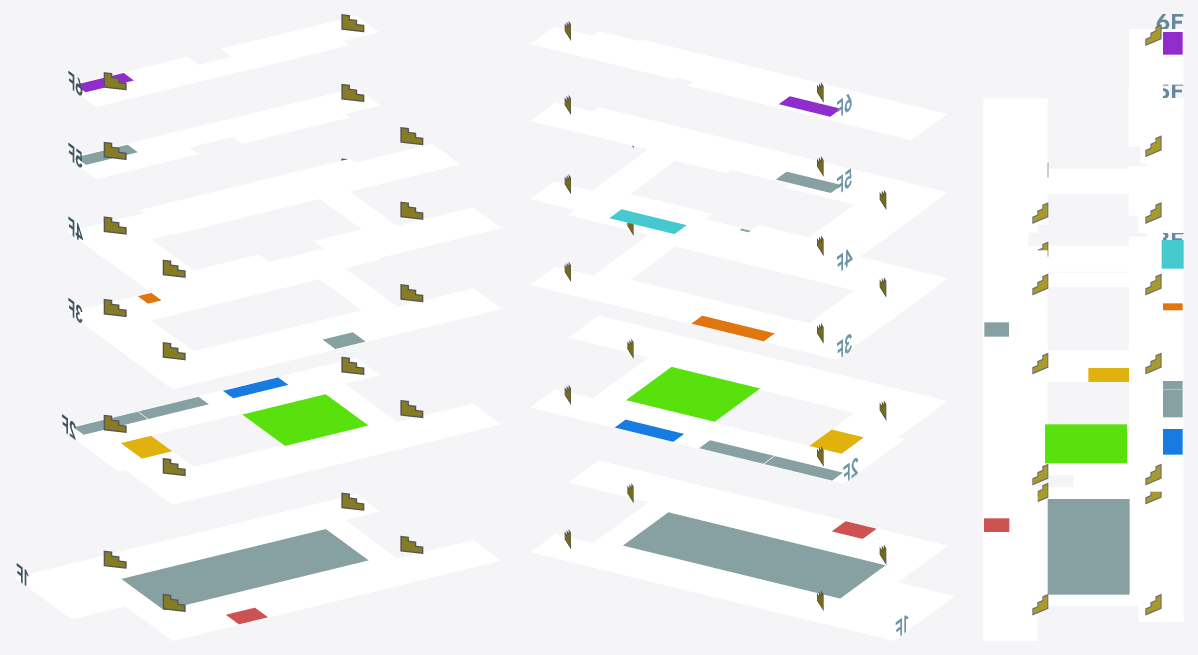
The model's file is 3dmap_north.glb.
3 views of the same model, side by side, from view 1: azimuth 30°, elevation 25°; view 2: azimuth 150°, elevation 25°; view 3: azimuth 270°, elevation 25° (orthographic). The views are drawn at different scales.
Parts seen in each view (by area): view 1: Cube.006; view 2: Cube.006; view 3: Cube.006.
Boxes of the visible parts, <box> form: Cube.006: <box>14,15,501,640</box>; Cube.006: <box>530,26,954,640</box>; Cube.006: <box>983,29,1183,640</box>.
Bounding box in the file's own units: 4.63 × 5.73 × 2.2.
11 materials, 1 textured.
